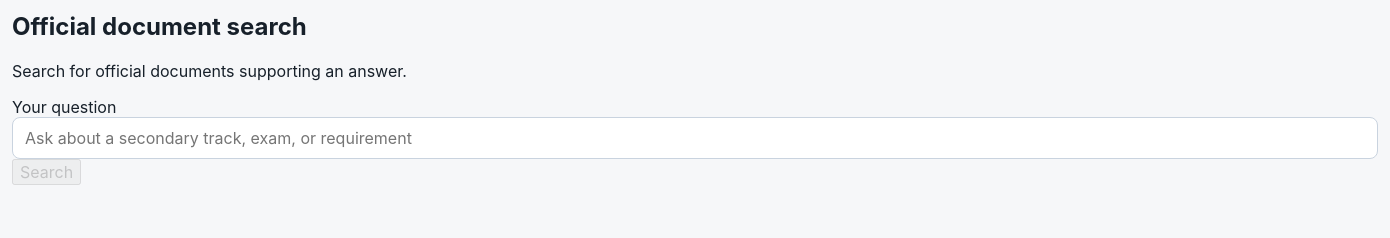
Test: shows a no-source message when the query is outside the scope of indexed documents
The width and height of the screenshot is (1390, 238).
Type "What is the weather tomorrow?" into the field labelled "Your question". click: (695, 138)
box: [12,117,1378,159]
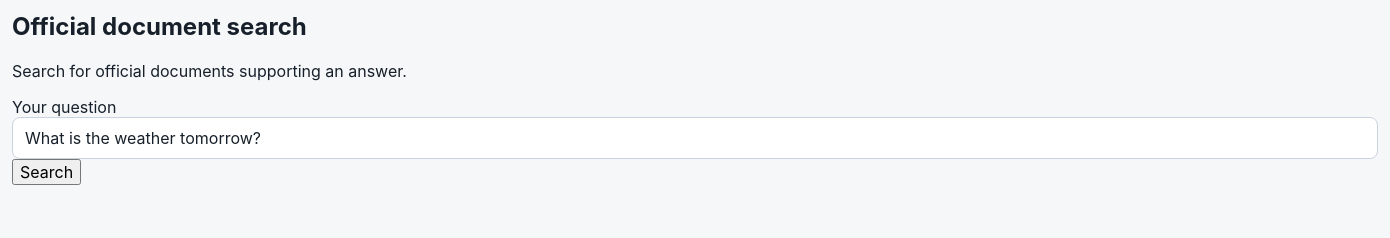
Click the button "Search". click: click(47, 172)
box: [12,159,81,185]
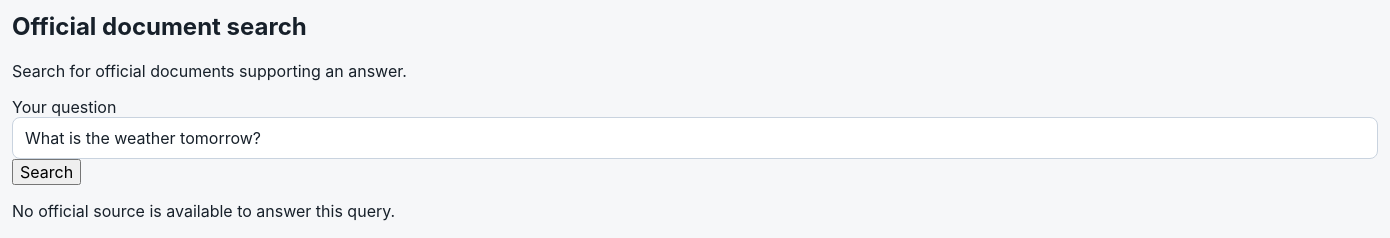
Expected: the message reads "No official source is available to answer this query.", [12,201,395,221]
